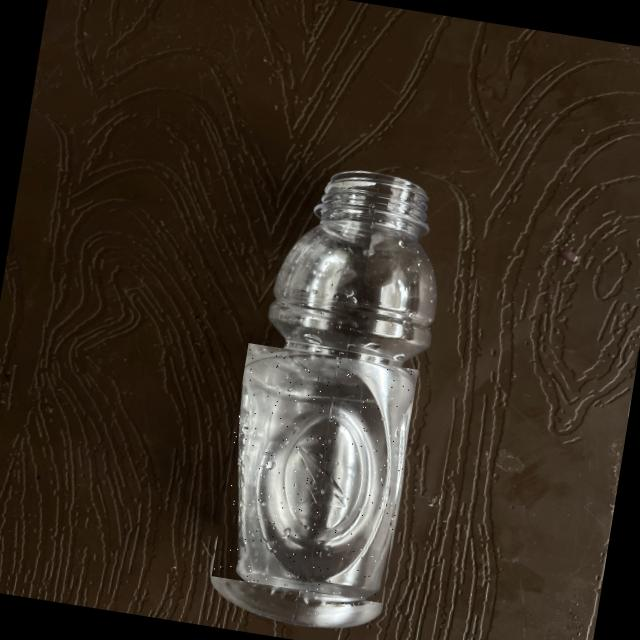PET_With_Liquid: (238, 354, 411, 591)
